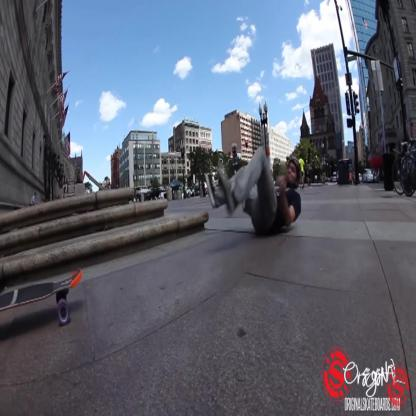Fall_Down: (204, 146, 303, 237)
